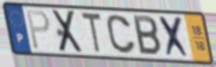B: (131, 13, 163, 57)
C: (105, 13, 138, 56)
P: (25, 9, 51, 51)
T: (80, 11, 103, 56)
X: (157, 14, 193, 60), (51, 9, 86, 55)
